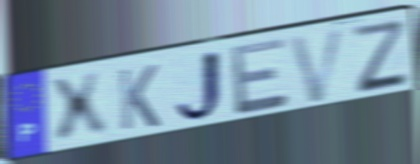E: (228, 35, 291, 119)
J: (172, 47, 228, 125)
K: (116, 62, 163, 133)
V: (286, 23, 350, 106)
X: (46, 69, 112, 149)
Z: (349, 17, 411, 96)
